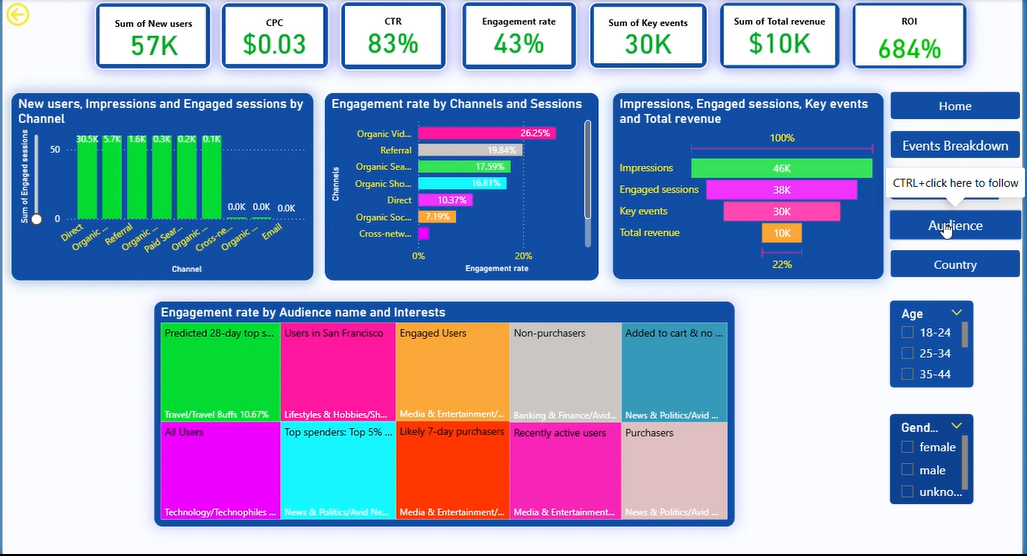

The page's visual inventory and layout, read from the dashboard file:
{"tool":"powerbi","page":{"name":"Engagement Dashboard","canvas":[1337,730],"ordinal":3},"visuals":[{"type":"actionButton","box":[1163,171,174,40],"z":0},{"type":"actionButton","box":[1163,224,174,40],"z":1000},{"type":"actionButton","box":[1163,277,174,40],"z":2000},{"type":"actionButton","box":[1163,328,174,40],"z":3000},{"type":"slicer","fields":{"Values":["Table 7 (Demographic details Age).Age"]},"box":[1163.3,395.1,111.3,116.2],"z":4000},{"type":"slicer","fields":{"Values":["Table 9 (Demographic details Gender).Gender"]},"box":[1163.3,544.3,111.3,119.9],"z":5000},{"type":"cardVisual","fields":{"Data":["Sum(Table 1 (User acquisition).New users)"]},"box":[121,4,153,89],"z":6000},{"type":"cardVisual","fields":{"Data":["Table 1 (User acquisition).CPC"]},"box":[286,4,142,89],"z":7000},{"type":"cardVisual","fields":{"Data":["Table 1 (User acquisition).CTR"]},"box":[443,3,140,91],"z":8000},{"type":"cardVisual","fields":{"Data":["Avg(Table 1 (User acquisition).Engagement rate)"]},"box":[602,2,152,91],"z":9000},{"type":"cardVisual","fields":{"Data":["Sum(Table 1 (User acquisition).Key events)"]},"box":[769,4,156,88],"z":10000},{"type":"cardVisual","fields":{"Data":["Sum(Table 1 (User acquisition).Total revenue)"]},"box":[941,4,158,88],"z":11000},{"type":"cardVisual","fields":{"Data":["Table 1 (User acquisition).ROI"]},"box":[1114,4,151,88],"z":12000},{"type":"actionButton","title":"Home","box":[1163,120,174,40],"z":13000},{"type":"clusteredColumnChart","title":"New users, Impressions and Engaged sessions by Channel","fields":{"Category":["Table 1 (User acquisition).Channel"],"Y":["Sum(Table 1 (User acquisition).Engaged sessions)"]},"box":[11,122.3,397.5,248.3],"z":14000},{"type":"funnel","fields":{"Y":["Sum(Table 1 (User acquisition).Impressions)","Sum(Table 1 (User acquisition).Engaged sessions)","Sum(Table 1 (User acquisition).Key events)","Sum(Table 1 (User acquisition).Total revenue)"]},"box":[800.2,122.7,356.6,246.7],"z":15000},{"type":"barChart","fields":{"Category":["Table 2 (Traffic acquisition).Channels"],"Series":["Table 2 (Traffic acquisition).Sessions"],"Y":["Sum(Table 2 (Traffic acquisition).Engagement rate)"]},"box":[421.8,122.7,360.5,248],"z":16000},{"type":"actionButton","box":[0,0,100,40],"z":17000},{"type":"treemap","fields":{"Group":["Table 5 (Audience).Audience name"],"Details":["Table 8 (Demographic details Interests).Interests"],"Values":["Sum(Table 8 (Demographic details Interests).Engagement rate)"]},"box":[198.2,396.3,763.3,297.2],"z":18000}]}

Visuals, with their boxes in screenshot pixels (x1, y1, x2, y2), scaled from the page's 1337x730 canvas onto the 1027x556 screenshot:
actionButton: pyautogui.locateOnScreen(893, 130, 1026, 161)
actionButton: pyautogui.locateOnScreen(893, 171, 1026, 201)
actionButton: pyautogui.locateOnScreen(893, 211, 1026, 241)
actionButton: pyautogui.locateOnScreen(893, 250, 1026, 280)
slicer - Table 7 (Demographic details Age).Age: pyautogui.locateOnScreen(894, 301, 979, 389)
slicer - Table 9 (Demographic details Gender).Gender: pyautogui.locateOnScreen(894, 415, 979, 506)
cardVisual - Sum(Table 1 (User acquisition).New users): pyautogui.locateOnScreen(93, 3, 210, 71)
cardVisual - Table 1 (User acquisition).CPC: pyautogui.locateOnScreen(220, 3, 329, 71)
cardVisual - Table 1 (User acquisition).CTR: pyautogui.locateOnScreen(340, 2, 448, 72)
cardVisual - Avg(Table 1 (User acquisition).Engagement rate): pyautogui.locateOnScreen(462, 2, 579, 71)
cardVisual - Sum(Table 1 (User acquisition).Key events): pyautogui.locateOnScreen(591, 3, 711, 70)
cardVisual - Sum(Table 1 (User acquisition).Total revenue): pyautogui.locateOnScreen(723, 3, 844, 70)
cardVisual - Table 1 (User acquisition).ROI: pyautogui.locateOnScreen(856, 3, 972, 70)
"Home" actionButton: pyautogui.locateOnScreen(893, 91, 1026, 122)
"New users, Impressions and Engaged sessions by Channel" clusteredColumnChart: pyautogui.locateOnScreen(8, 93, 314, 282)
funnel - Sum(Table 1 (User acquisition).Impressions) x Sum(Table 1 (User acquisition).Engaged sessions): pyautogui.locateOnScreen(615, 93, 889, 281)
barChart - Table 2 (Traffic acquisition).Channels x Table 2 (Traffic acquisition).Sessions: pyautogui.locateOnScreen(324, 93, 601, 282)
actionButton: pyautogui.locateOnScreen(0, 0, 77, 30)
treemap - Table 5 (Audience).Audience name x Table 8 (Demographic details Interests).Interests: pyautogui.locateOnScreen(152, 302, 739, 528)
